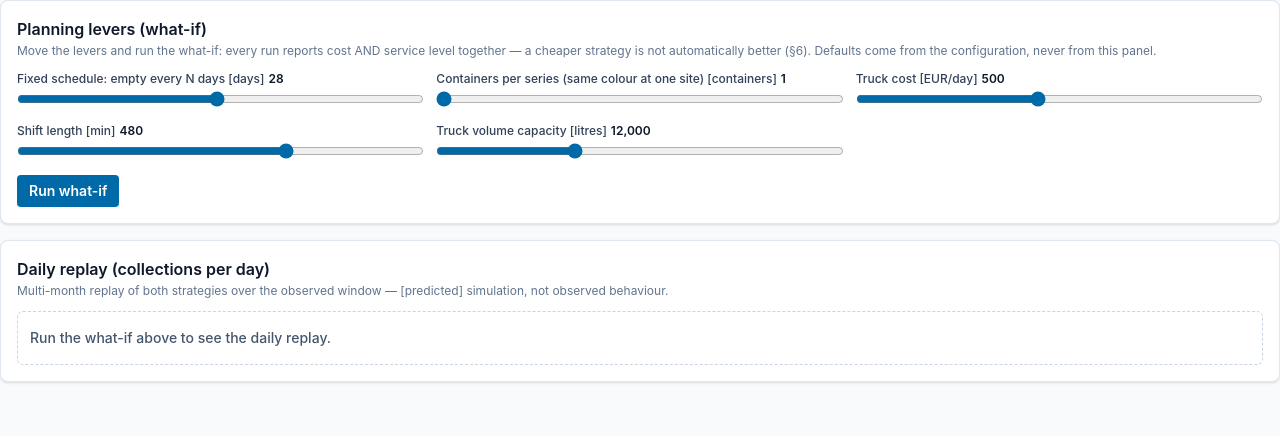
ScenariosPanel — results (§6 cost + service together) › degrades to an error state on a malformed scenarios payload
Click the button with test id "scenarios-run". click: (68, 191)
box: [17,175,120,207]
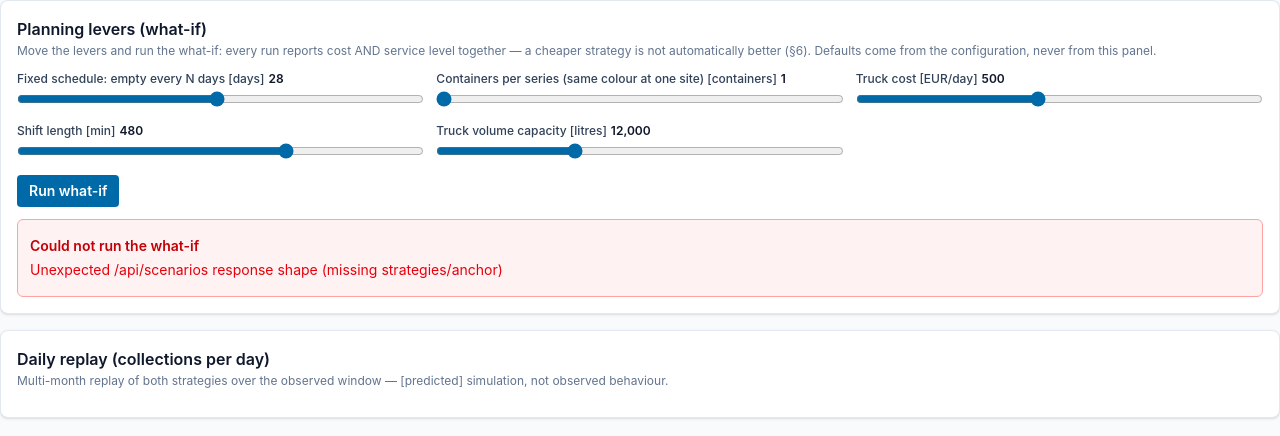
expect the message with test id "error-state" shows "Could not run the what-if": met, box [30,237,199,254]
